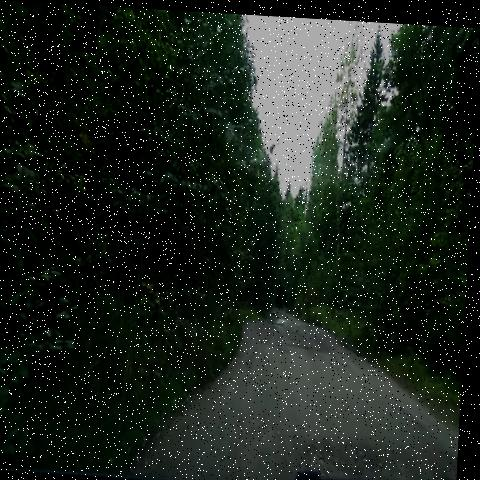pothole: (287, 406, 404, 477), (276, 304, 296, 336), (271, 299, 284, 320)
